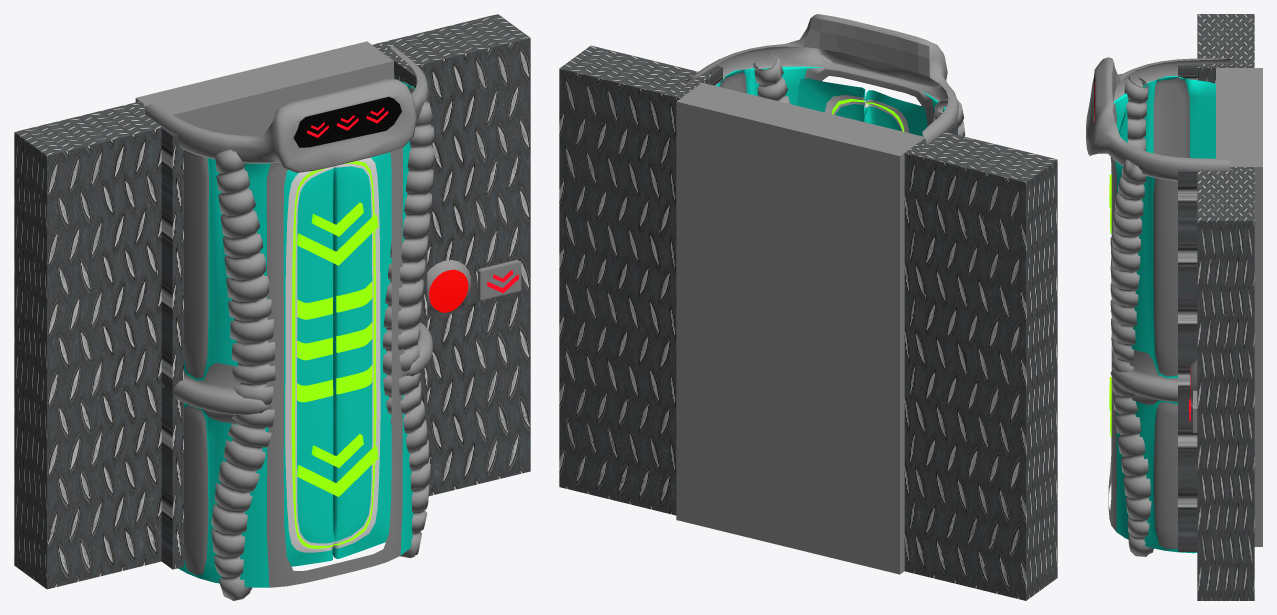
The model's file is elevator.fbx.
3 renders of one model, left to right at view 1: azimuth 30°, elevation 25°; view 2: azimuth 150°, elevation 25°; view 3: azimuth 270°, elevation 25°, orthographic. The views are drawn at different scales.
Visible parts, largest first — view 1: elevator-walls, elevator, elevator-door, elevator-button; view 2: elevator-walls, elevator, elevator-door; view 3: elevator-walls, elevator, elevator-door, elevator-button.
Boxes of the visible parts, x1=… form: elevator-walls: x1=14, y1=14, x2=530, y2=589; elevator: x1=145, y1=45, x2=434, y2=600; elevator-door: x1=283, y1=152, x2=391, y2=566; elevator-button: x1=427, y1=260, x2=470, y2=317; elevator-walls: x1=559, y1=45, x2=1057, y2=600; elevator: x1=685, y1=14, x2=965, y2=144; elevator-door: x1=797, y1=78, x2=927, y2=136; elevator-walls: x1=1178, y1=14, x2=1262, y2=600; elevator: x1=1086, y1=57, x2=1230, y2=556; elevator-door: x1=1109, y1=108, x2=1127, y2=436; elevator-button: x1=1190, y1=359, x2=1197, y2=407.
Size of the model in its own units: 3362 by 3313 by 1215.
Materials: 8 (1 with a texture image).
